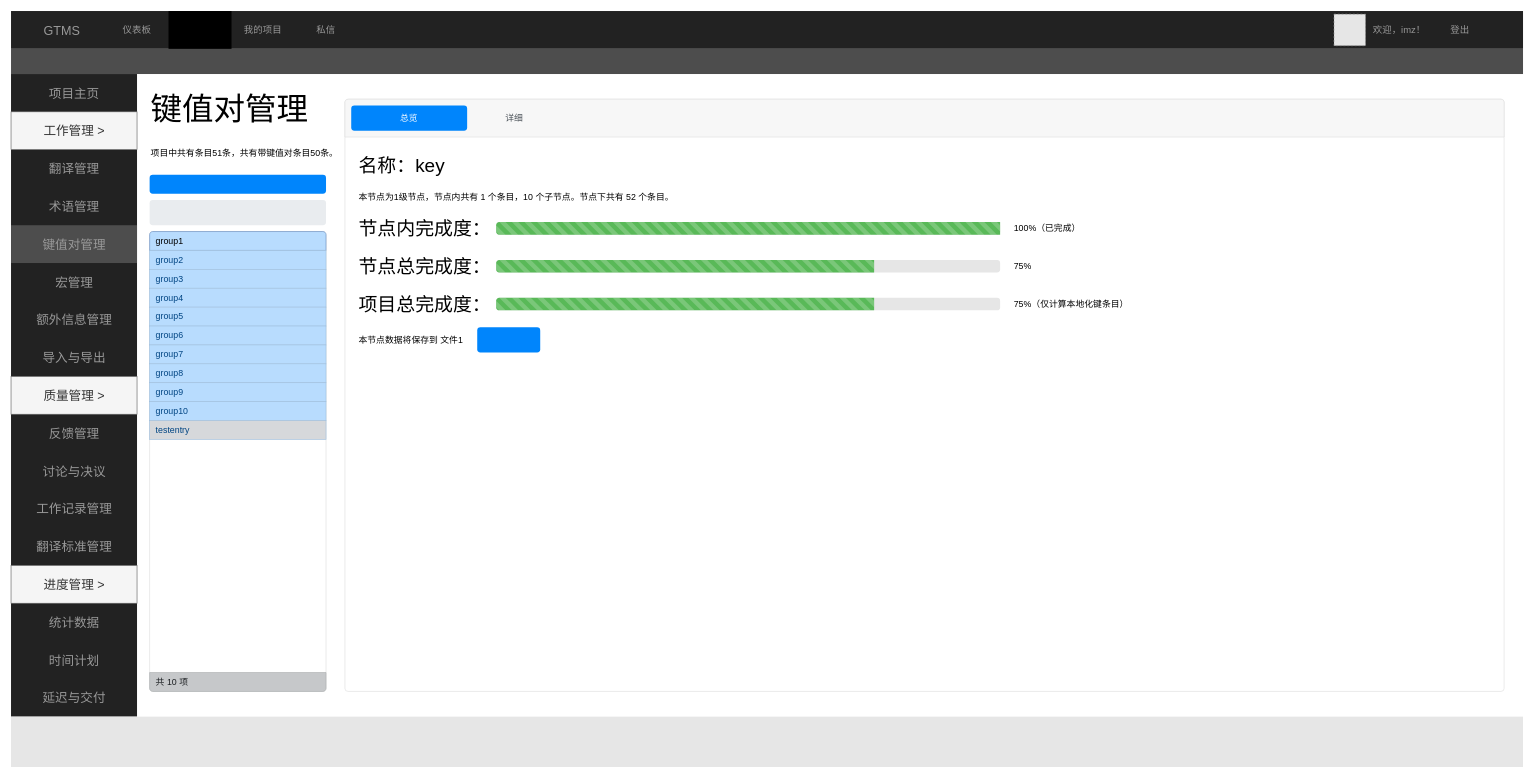
The diagram is 1534 pixels wide and 777 high, and some of its shapes have lost their labels. Grey dashed boxes stand in for pictures. Each missing label, with the box of its shape:
Key /: (149, 200, 326, 225)
Yifan Xu 毕业设计 @天津工业大学: (11, 716, 1523, 767)
上一级: (149, 175, 326, 193)
更改: (477, 327, 540, 352)
示例中文化项目01 / 键值对管理: (11, 49, 1523, 74)
项目浏览: (168, 11, 231, 49)
